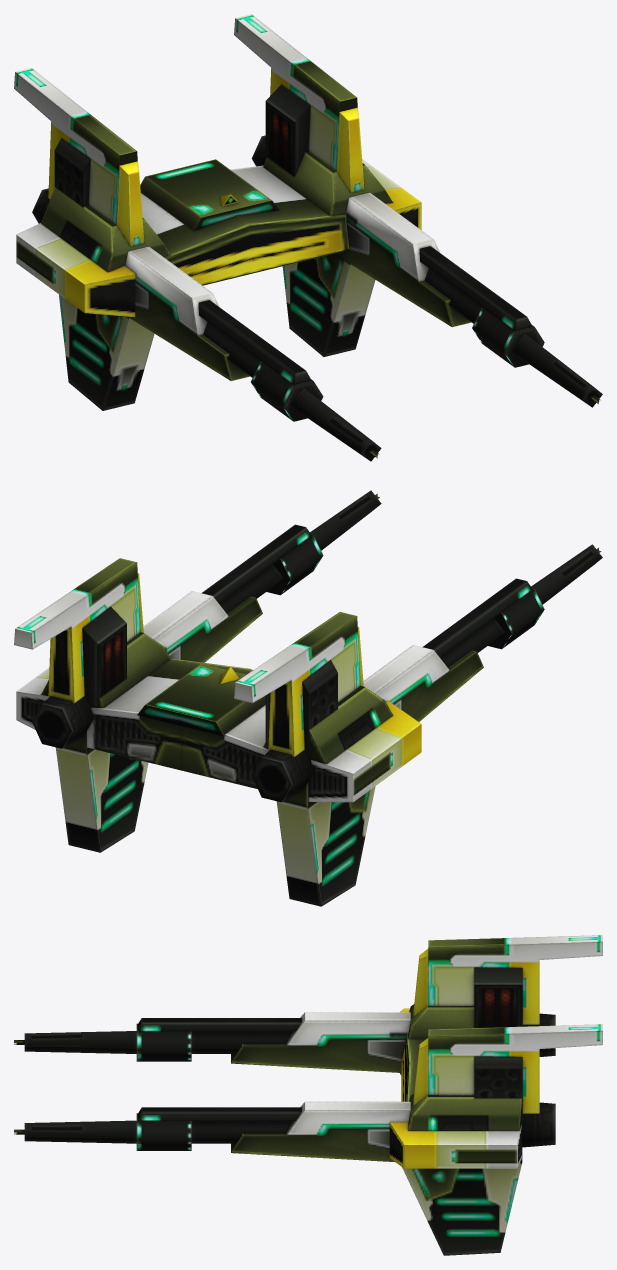
File: datan_common_ss0_arm83_amg_06c70060.obj
3 views of the same model, one above another, from view 1: azimuth 30°, elevation 25°; view 2: azimuth 150°, elevation 25°; view 3: azimuth 270°, elevation 25° (orthographic). The views are drawn at different scales.
Parts seen in each view (by area): view 1: datan_common_ss0_arm83_amg_06c70060_mesh01, datan_common_ss0_arm83_amg_06c70060_mesh00; view 2: datan_common_ss0_arm83_amg_06c70060_mesh01, datan_common_ss0_arm83_amg_06c70060_mesh00; view 3: datan_common_ss0_arm83_amg_06c70060_mesh01, datan_common_ss0_arm83_amg_06c70060_mesh00.
Boxes of the visible parts, x1,y1,x2,y2 form: datan_common_ss0_arm83_amg_06c70060_mesh01: (14,14,602,461); datan_common_ss0_arm83_amg_06c70060_mesh00: (140,159,349,285); datan_common_ss0_arm83_amg_06c70060_mesh01: (14,490,602,906); datan_common_ss0_arm83_amg_06c70060_mesh00: (87,658,268,788); datan_common_ss0_arm83_amg_06c70060_mesh01: (24,935,602,1255); datan_common_ss0_arm83_amg_06c70060_mesh00: (401,1034,425,1101).
Size of the model in its own units: 0.9158 by 0.6932 by 1.67.
Materials: 1 (1 with a texture image).
